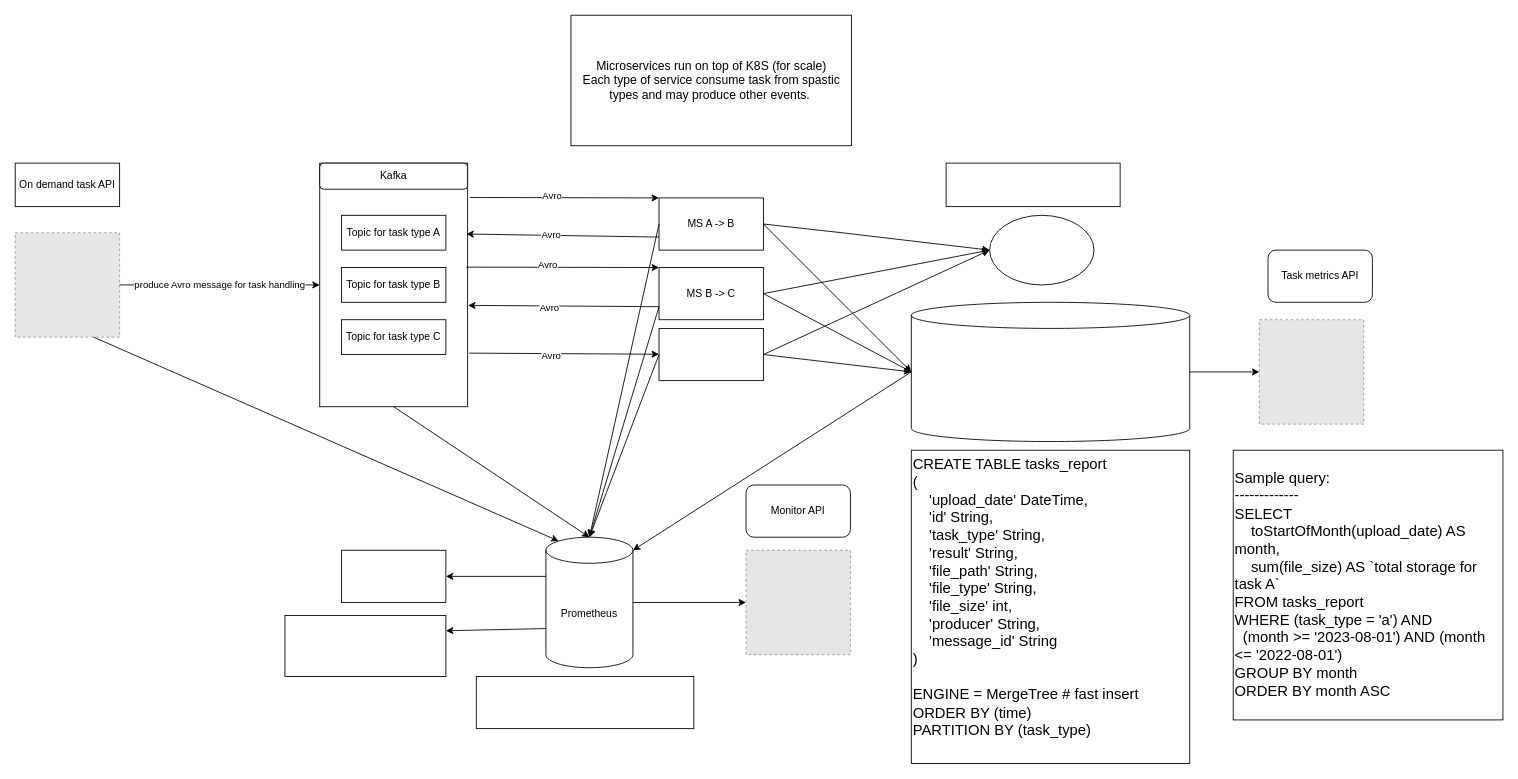
Some shapes in this 1518 by 779 pixel diagram are drawn without their labels. Grey dashed boxes stand in for pictures. The shapes that lost their labels are listed below. From the top down, each one's centre as x and y in pixels, then its label:
At pixel 1032 184: "Partition by Task/Y/M/D".
At pixel 1041 249: "S3".
At pixel 710 354: "MS A".
At pixel 1050 371: "Clickhouse Column-oriented databases".
At pixel 393 575: "Alert manager".
At pixel 365 645: "Grafana System and Microservices dashboards".
At pixel 584 702: "Prometheus monitoring is best practice for Docker and Kubernetes monitoring".
